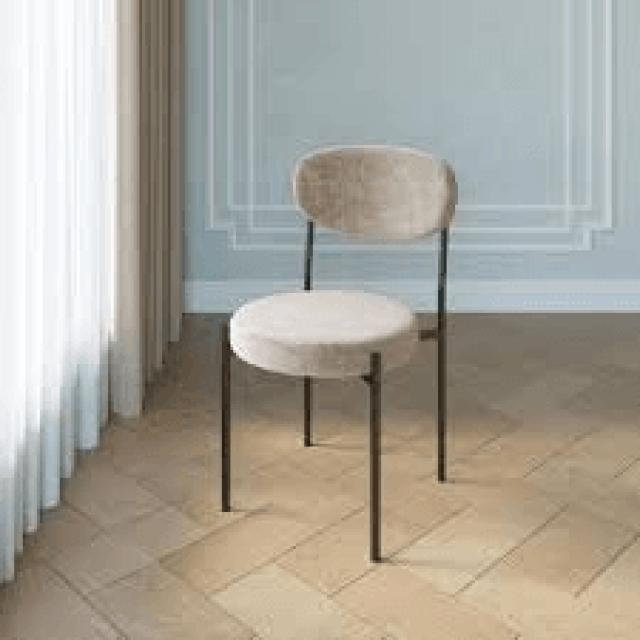chair: (214, 140, 463, 566), (215, 127, 482, 382)
